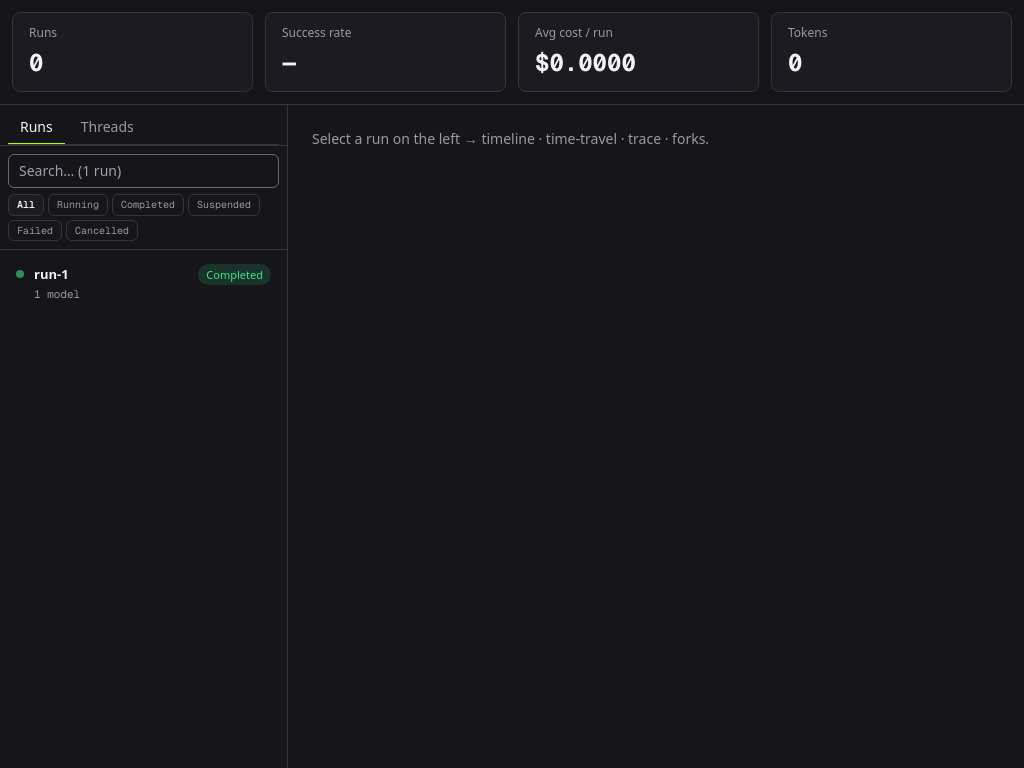
Scenario: Inspector — Network tab + cost details › "Network" tab: shows a clear empty state when routes/steps are empty
The image size is (1024, 768).
Click the text "run-1" at x=51, y=274, box [34,264,69,284]
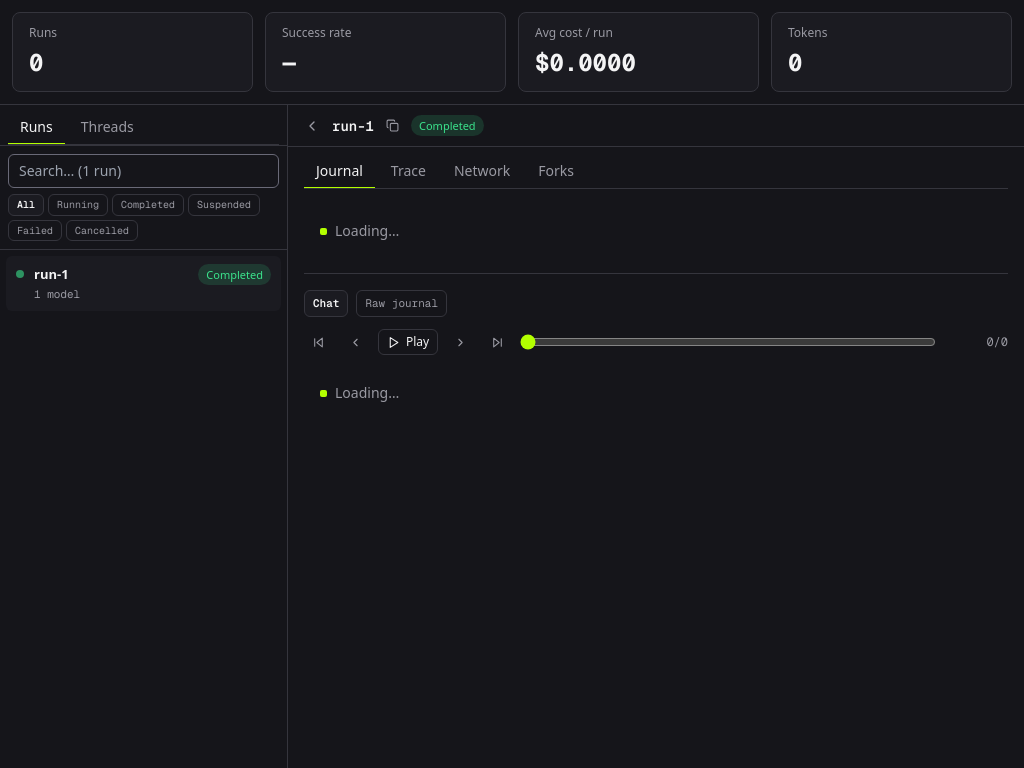
Click the tab "Network" at x=482, y=172, box [442,155,522,189]
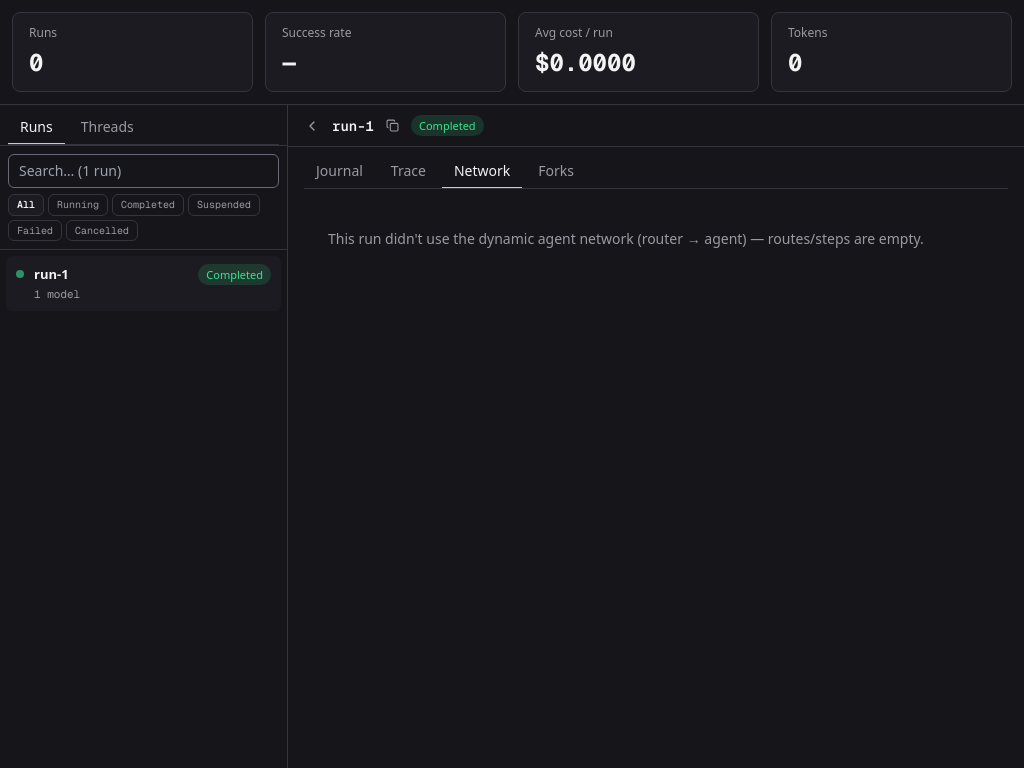
Result: the text "didn't use the dynamic agent network" is shown at [328,229,924,248]
